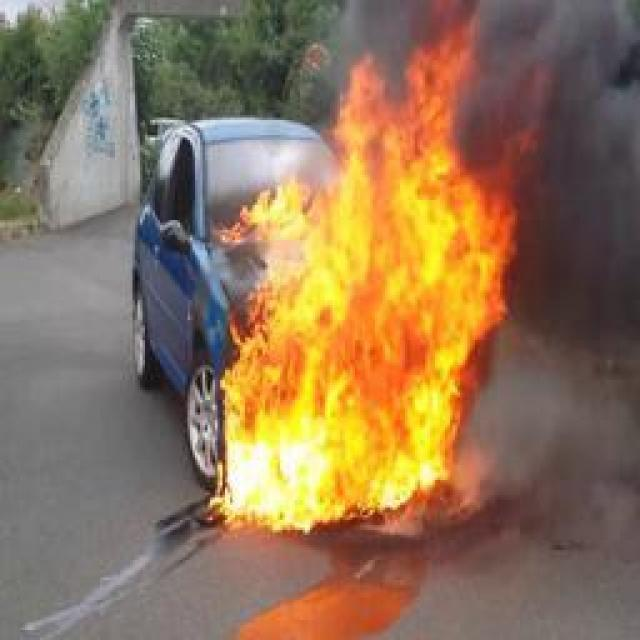Fire: (208, 0, 552, 530)
